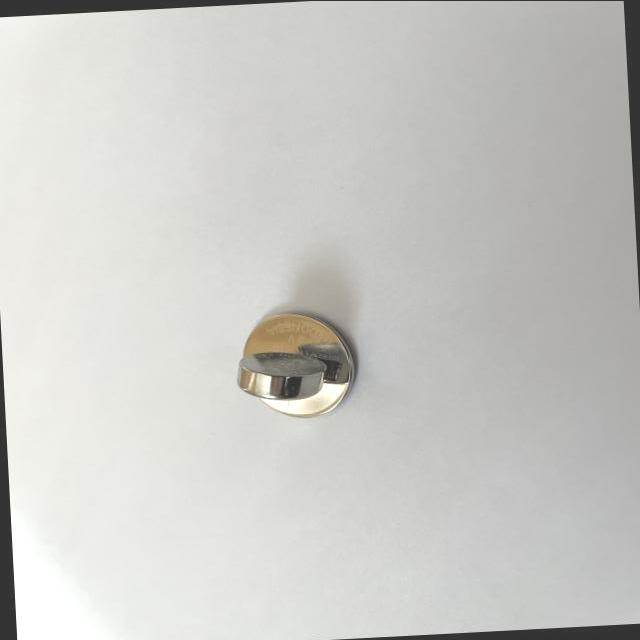COIN: (235, 309, 356, 422), (235, 348, 326, 403)
